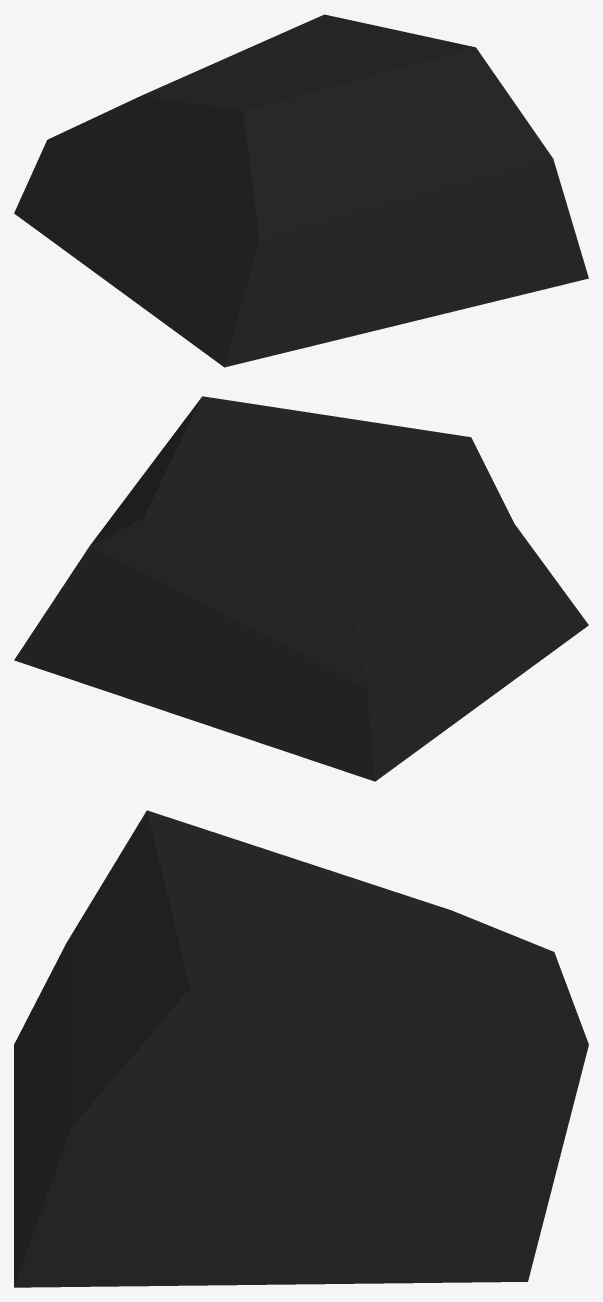
The model's file is mediumrock.glb.
3 views of the same model, one above another, from view 1: azimuth 30°, elevation 25°; view 2: azimuth 150°, elevation 25°; view 3: azimuth 270°, elevation 25° (orthographic). The views are drawn at different scales.
Parts seen in each view (by area): view 1: Cube; view 2: Cube; view 3: Cube.
Part boxes in pixels (x1=…): Cube: x1=14, y1=14, x2=588, y2=367; Cube: x1=14, y1=396, x2=588, y2=781; Cube: x1=14, y1=810, x2=588, y2=1287.
Bounding box in the file's own units: 2.45 × 1.27 × 2.36.
1 material, 1 textured.
